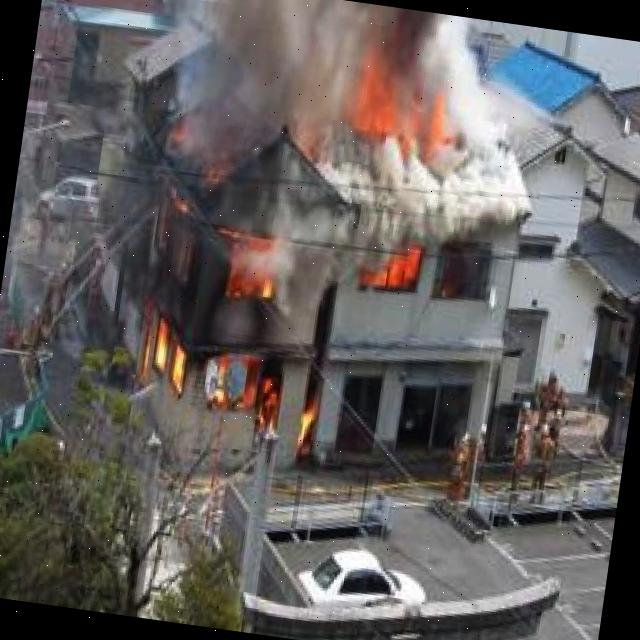fire: (124, 129, 353, 452), (338, 45, 462, 164), (358, 230, 428, 306)
